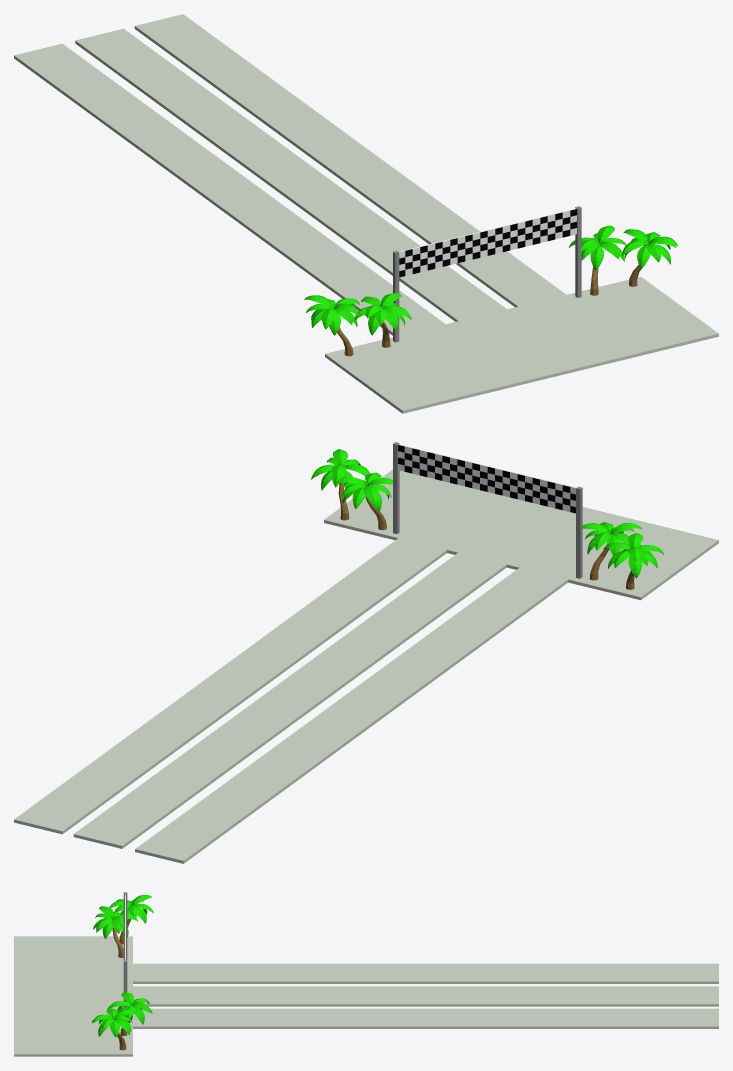
The model's file is Platform.fbx.
3 renders of one model, top to bottom at view 1: azimuth 30°, elevation 25°; view 2: azimuth 150°, elevation 25°; view 3: azimuth 270°, elevation 25°, orthographic. The views are drawn at different scales.
Parts seen in each view (by area): view 1: Cube.030, Cube.003, Palm-tree.013, Palm-tree.002, Palm-tree.001, Palm-tree.003; view 2: Cube.030, Cube.003, Palm-tree.003, Palm-tree.013, Palm-tree.001, Palm-tree.002; view 3: Cube.030, Palm-tree.002, Palm-tree.001, Palm-tree.003, Palm-tree.013, Cube.003.
Part boxes in pixels (x1,y1,x2,y2): Cube.030: (14,14,718,413); Cube.003: (393,206,581,342); Palm-tree.013: (304,295,359,356); Palm-tree.002: (354,293,411,347); Palm-tree.001: (622,229,677,286); Palm-tree.003: (569,225,625,295); Cube.030: (14,469,718,863); Cube.003: (393,442,582,578); Palm-tree.003: (334,472,392,530); Palm-tree.013: (603,533,663,589); Palm-tree.001: (311,449,370,520); Palm-tree.002: (582,522,642,580); Cube.030: (14,936,718,1056); Palm-tree.002: (93,906,138,957); Palm-tree.001: (92,1008,136,1050); Palm-tree.003: (107,992,152,1035); Palm-tree.013: (109,895,153,944); Cube.003: (123,892,127,1016).
Bounding box in the file's own units: 28.9 × 7.3 × 66.17.
